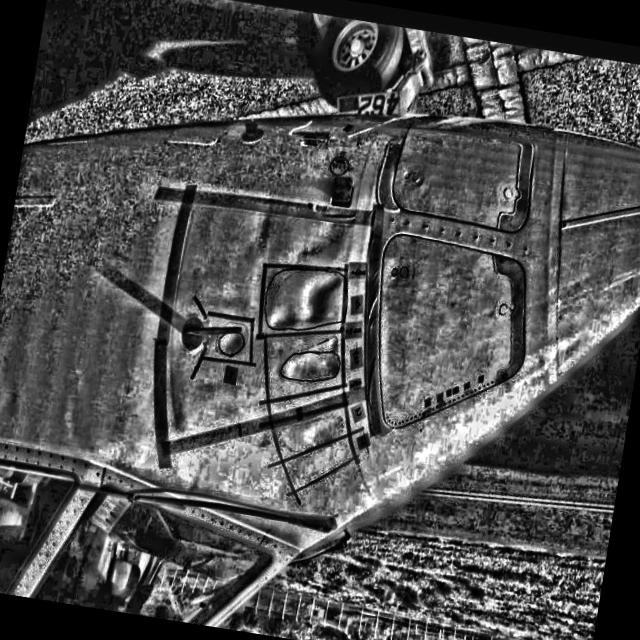dent: (285, 332, 343, 387), (302, 273, 339, 328), (266, 300, 301, 333), (220, 335, 244, 356)
